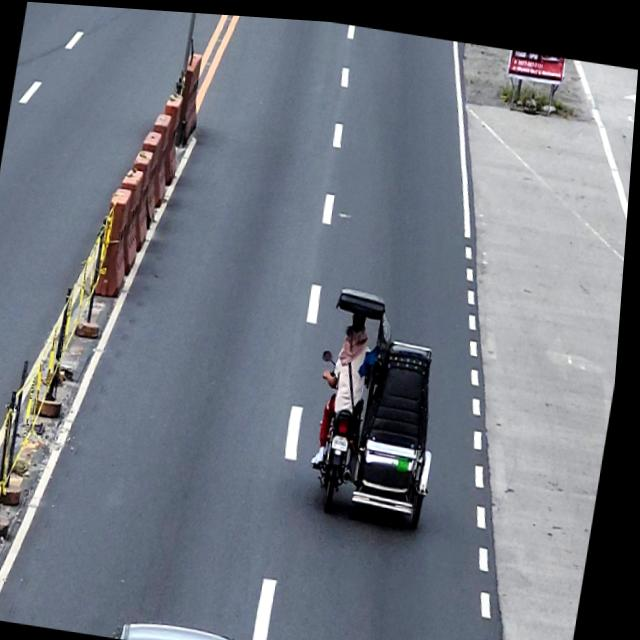License-Plate: (337, 428, 356, 446)
Tricycle: (303, 277, 463, 525)
